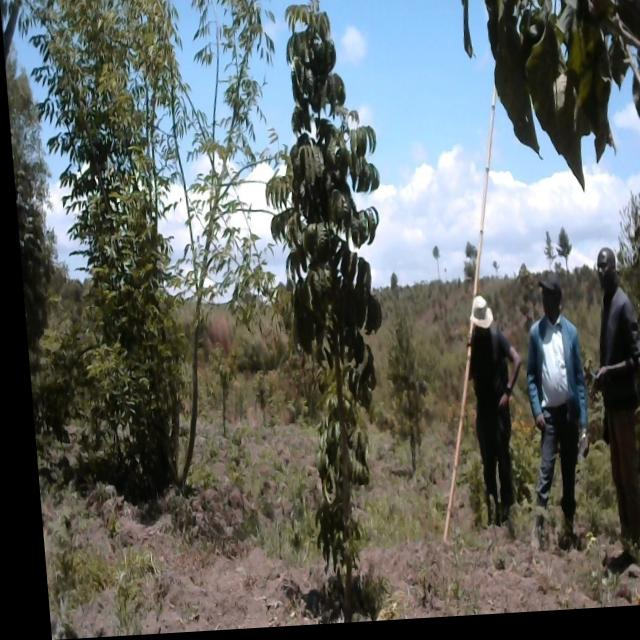Vitex keniensis: (241, 0, 425, 627)
other: (27, 0, 252, 485)
